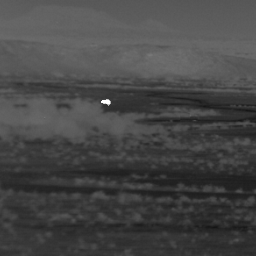Target: (100, 98, 112, 106)
